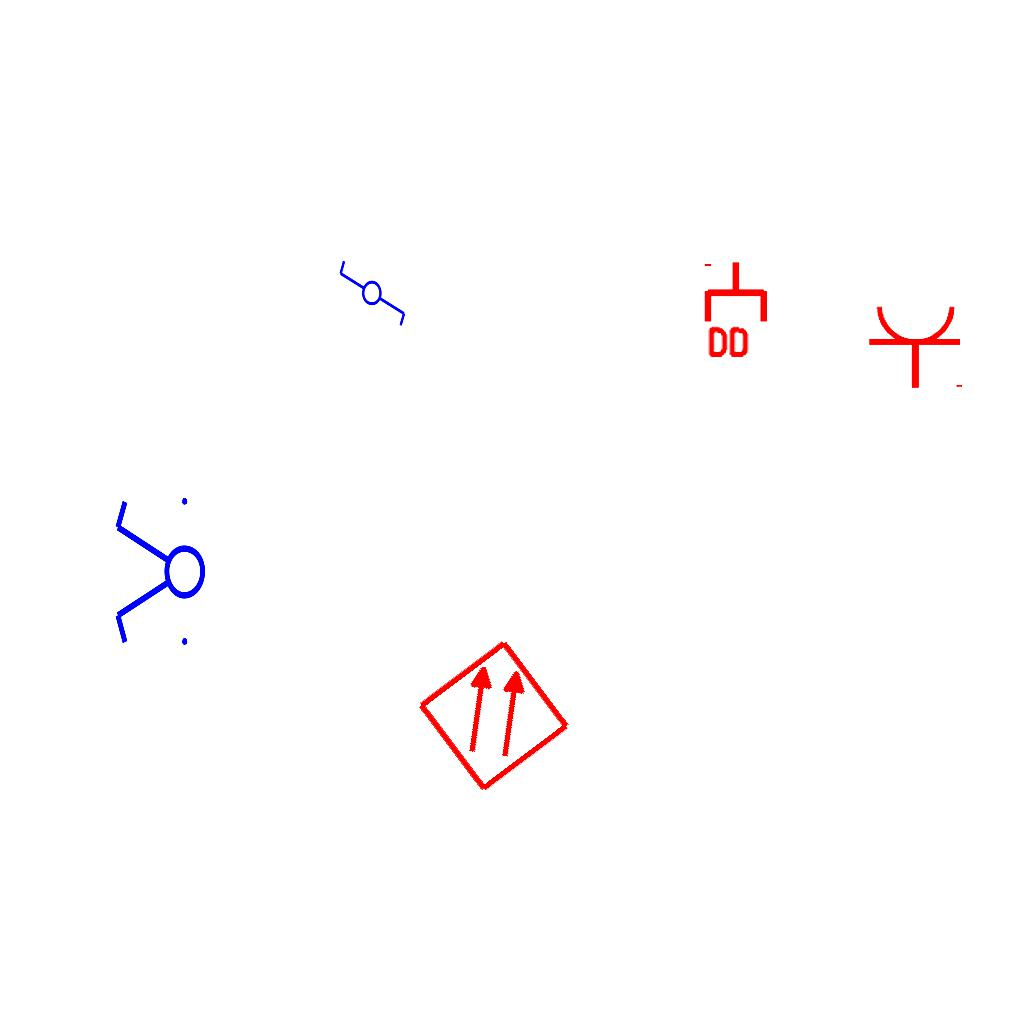Datenanschluss_zweifach: (703, 259, 772, 362)
RMO_Rauchmelder_optischer: (414, 636, 573, 795)
Schukosteckdose_einfach: (867, 303, 967, 390)
Serienschalter: (111, 489, 207, 657)
Wechselschalter: (337, 250, 409, 328)
